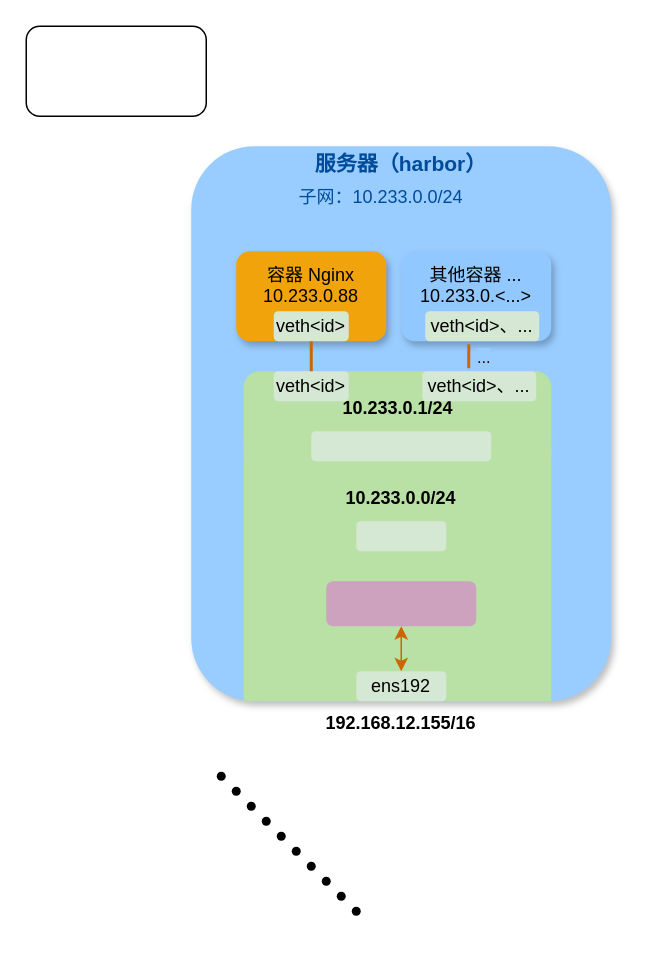
Some shapes in this 647 by 953 pixel diagram are drawn without their labels. The centre of each missing label's shape, as x and y in pixels:
br-<id> (harbor_harbor): point (400, 445)
Docker容器网络 harbor_harbor 10.233.0.0/24 10.233.0.88: point (115, 70)
vxlan233: point (401, 535)
定时脚本: point (401, 603)
